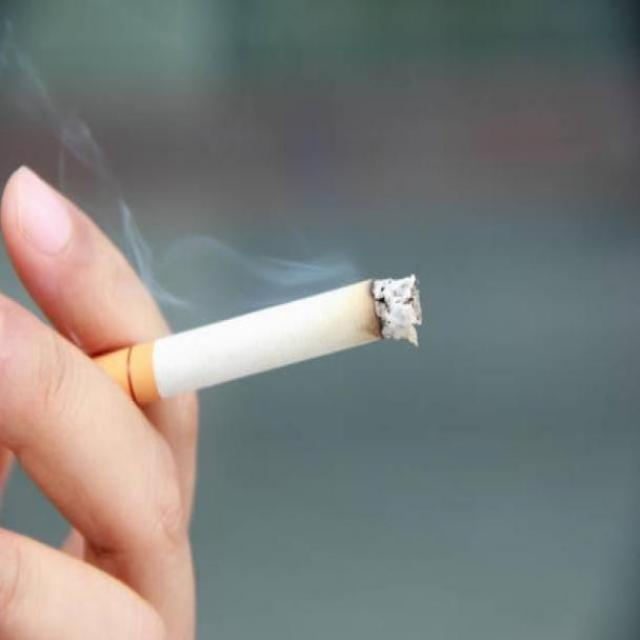rokok: (94, 270, 426, 426)
